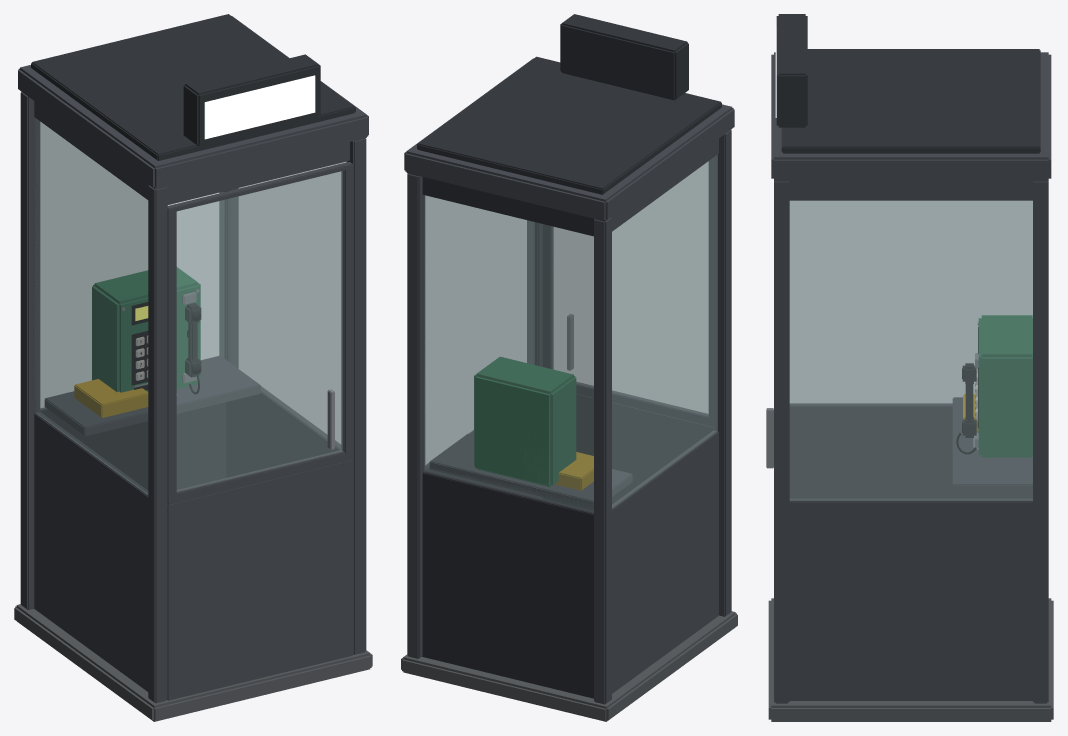
Rendered from payphone_booth.glb.
3 renders of one model, left to right at view 1: azimuth 30°, elevation 25°; view 2: azimuth 150°, elevation 25°; view 3: azimuth 270°, elevation 25°, orthographic. The views are drawn at different scales.
Parts seen in each view (by area): view 1: body, door, glass, handset; view 2: body, glass, door; view 3: body, glass, handset, door.
Part boxes in pixels (<box>): body: <box>14,14,372,721</box>; door: <box>167,161,353,700</box>; glass: <box>35,118,346,494</box>; handset: <box>185,303,201,377</box>; body: <box>401,14,737,721</box>; glass: <box>424,154,717,512</box>; door: <box>542,158,713,511</box>; body: <box>768,14,1053,721</box>; glass: <box>789,200,1032,500</box>; handset: <box>962,363,976,437</box>; door: <box>766,408,773,468</box>.
Bounding box in the file's own units: 1 × 2.66 × 1.11.
